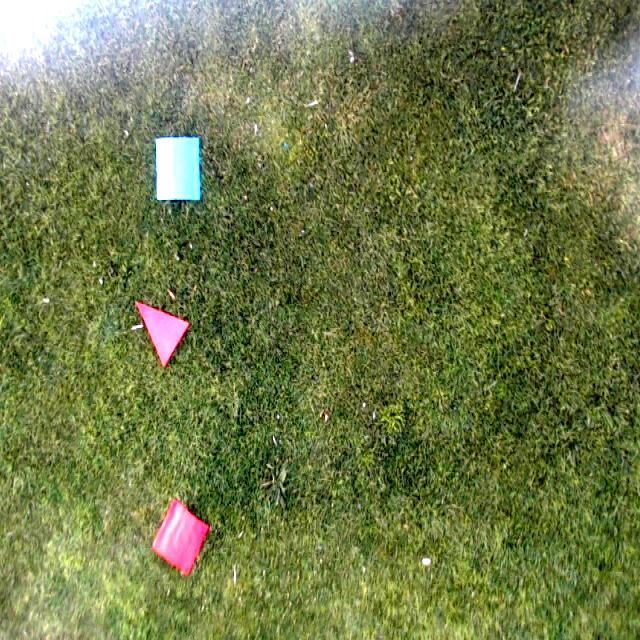blue_square: (156, 138, 202, 201)
red_square: (154, 501, 208, 573)
red_triangle: (135, 303, 189, 367)
